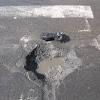pothole: (17, 32, 85, 100)
